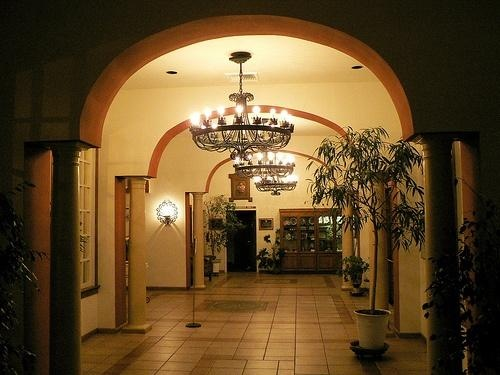pottedplant: (306, 122, 427, 366), (334, 173, 374, 298), (206, 195, 246, 287)
